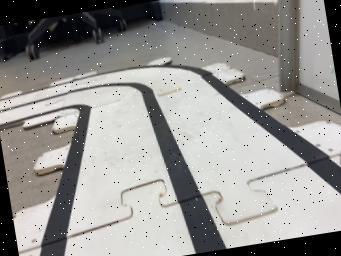street: (0, 62, 341, 256), (0, 62, 341, 256), (0, 62, 341, 256)
